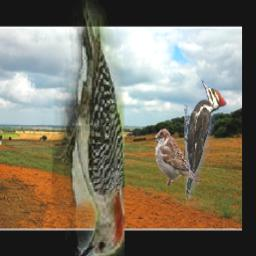Sparrow: (154, 129, 199, 186)
Woodpecker: (51, 0, 124, 256), (183, 80, 226, 206)
